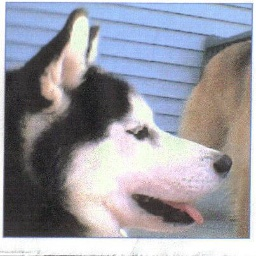dog: (7, 7, 238, 236)
